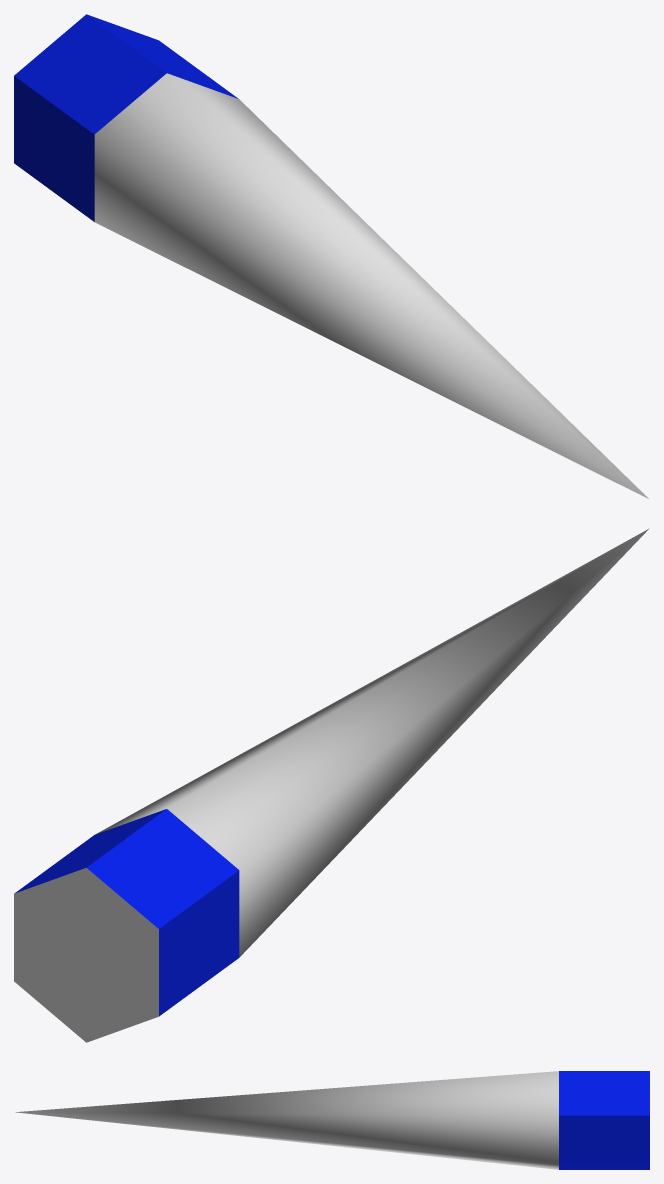
File: 1mlPipetTip.fbx
The picture shows the model from 3 angles, top to bottom: view 1: azimuth 30°, elevation 25°; view 2: azimuth 150°, elevation 25°; view 3: azimuth 270°, elevation 25°; orthographic projection. The views are drawn at different scales.
Parts seen in each view (by area): view 1: 1ml; view 2: 1ml; view 3: 1ml.
Boxes of the visible parts, bbox=[...] form: 1ml: bbox=[14, 14, 648, 498]; 1ml: bbox=[14, 528, 649, 1042]; 1ml: bbox=[15, 1071, 649, 1169].
Size of the model in its own units: 1.04 by 1.2 by 7.
